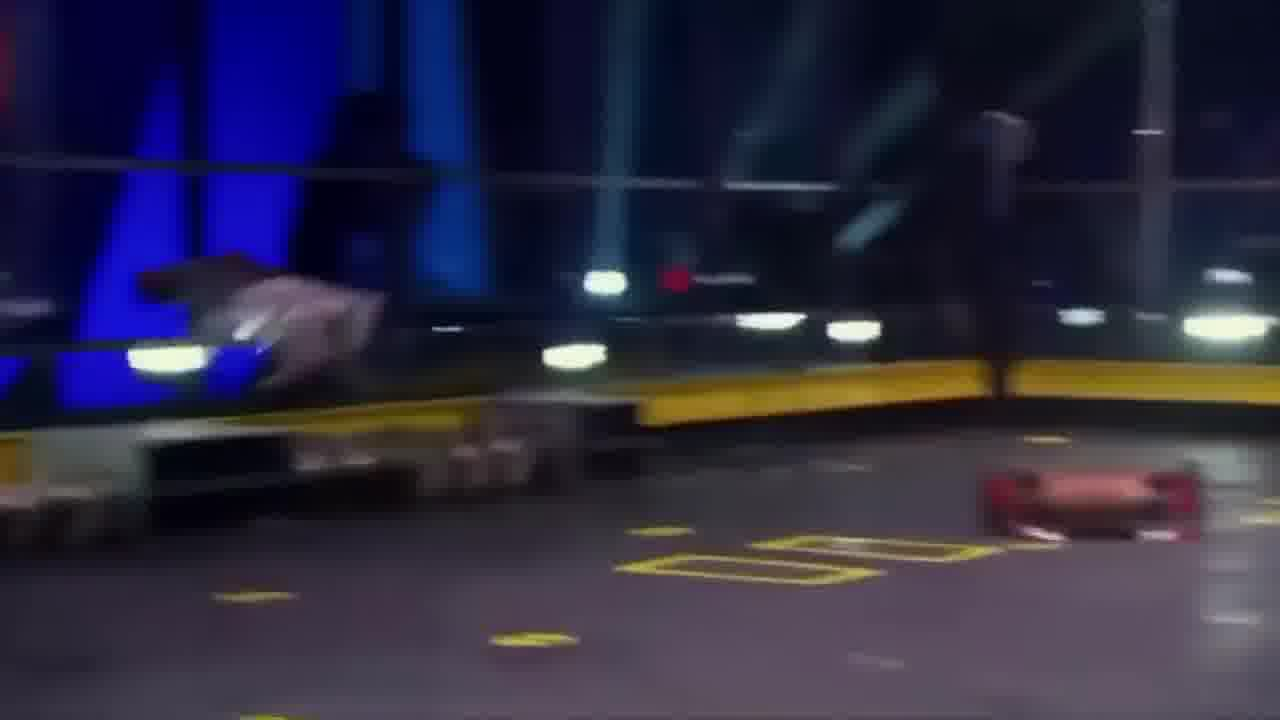combatbot: (188, 270, 385, 398), (976, 457, 1209, 546)
